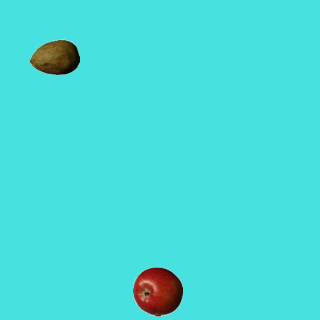Apple Braeburn: (132, 266, 182, 316)
Papaya: (29, 32, 79, 82)
